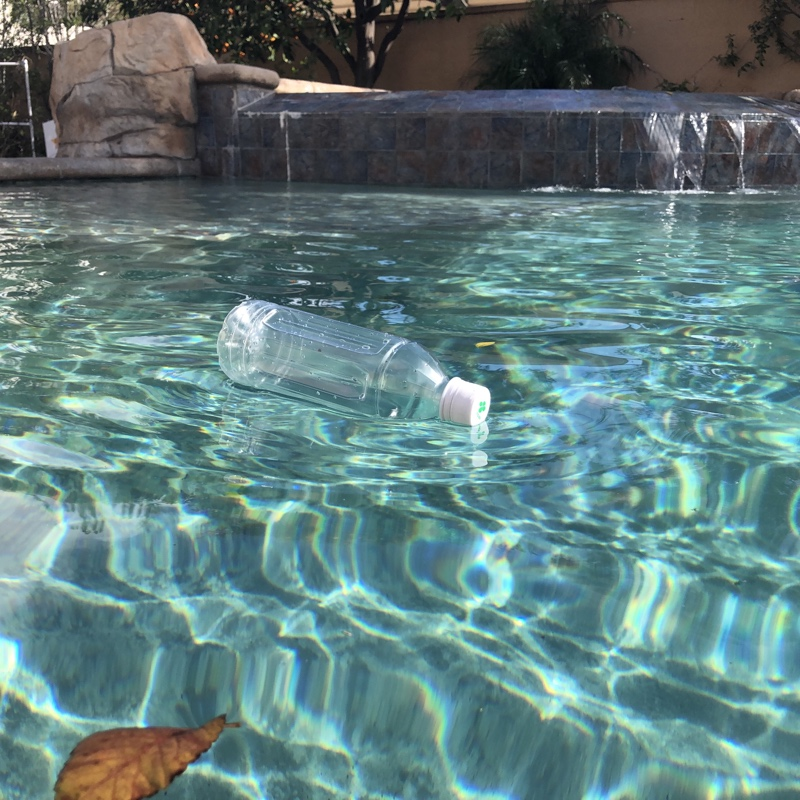Plastic Bottle: (210, 290, 496, 433)
